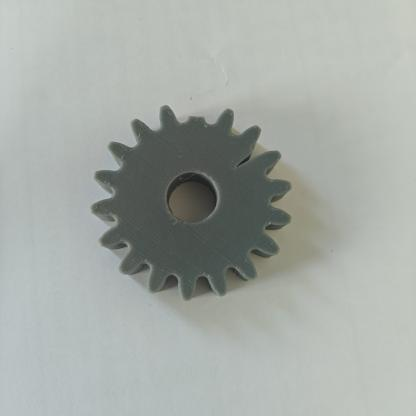defect: (222, 123, 288, 181), (167, 88, 214, 142)
gear: (79, 78, 321, 323)
